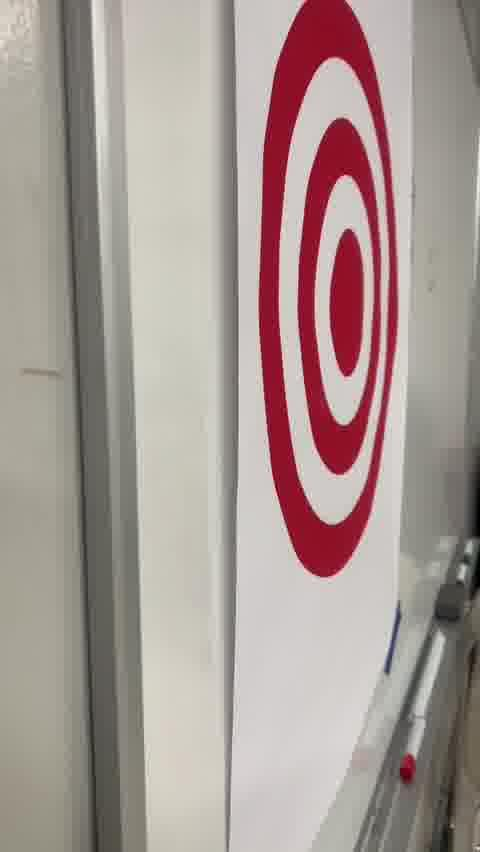target_red: (258, 0, 396, 578)
